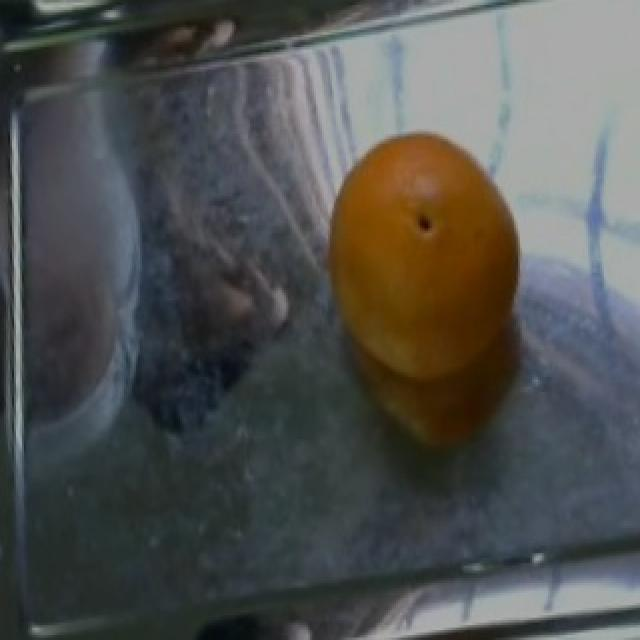Fruit: (302, 112, 536, 444)
